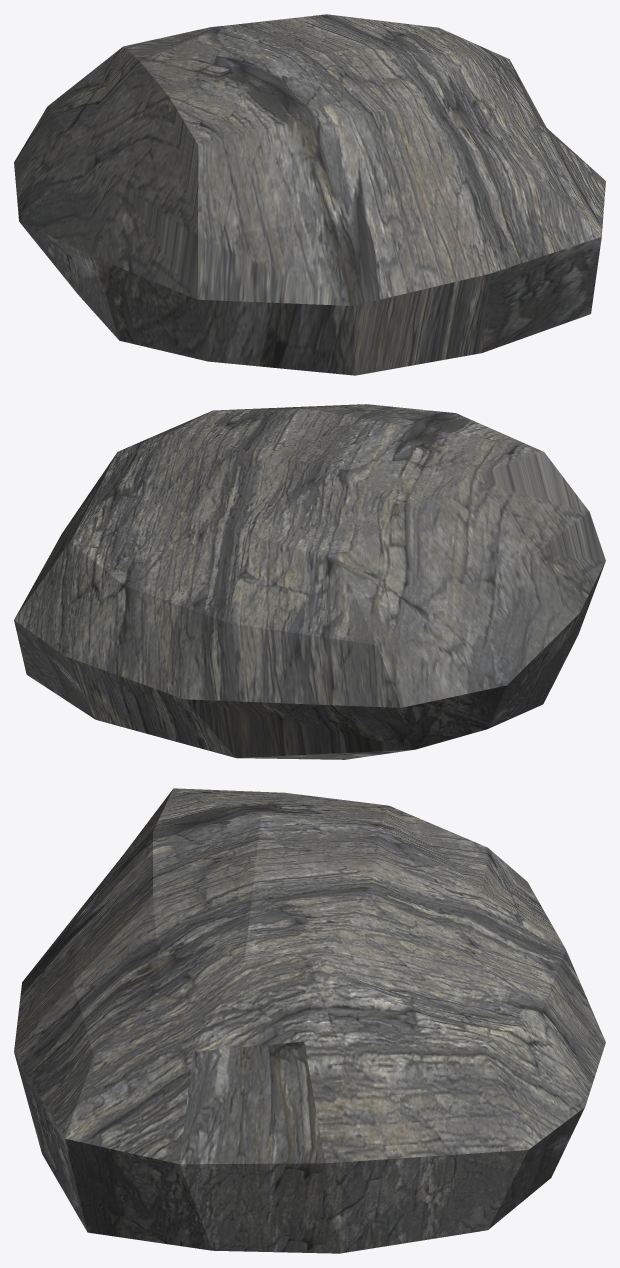
Rendered from Stone.fbx.
The picture shows the model from 3 angles, top to bottom: view 1: azimuth 30°, elevation 25°; view 2: azimuth 150°, elevation 25°; view 3: azimuth 270°, elevation 25°; orthographic projection. The views are drawn at different scales.
Visible parts, largest first — view 1: Cube; view 2: Cube; view 3: Cube.
Part boxes in pixels (x1,y1,x2,y2): Cube: (14, 14, 605, 375); Cube: (14, 404, 605, 759); Cube: (14, 788, 605, 1253).
Bounding box in the file's own units: 309 × 182 × 292.
Materials: 1 (1 with a texture image).
